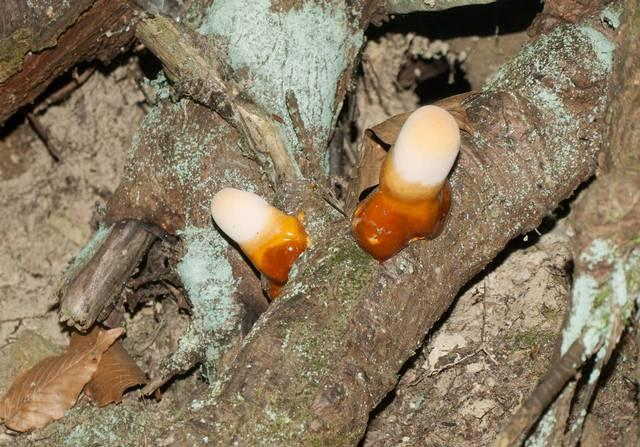Non-edible Mushroom: (349, 103, 461, 262), (208, 185, 311, 298)
